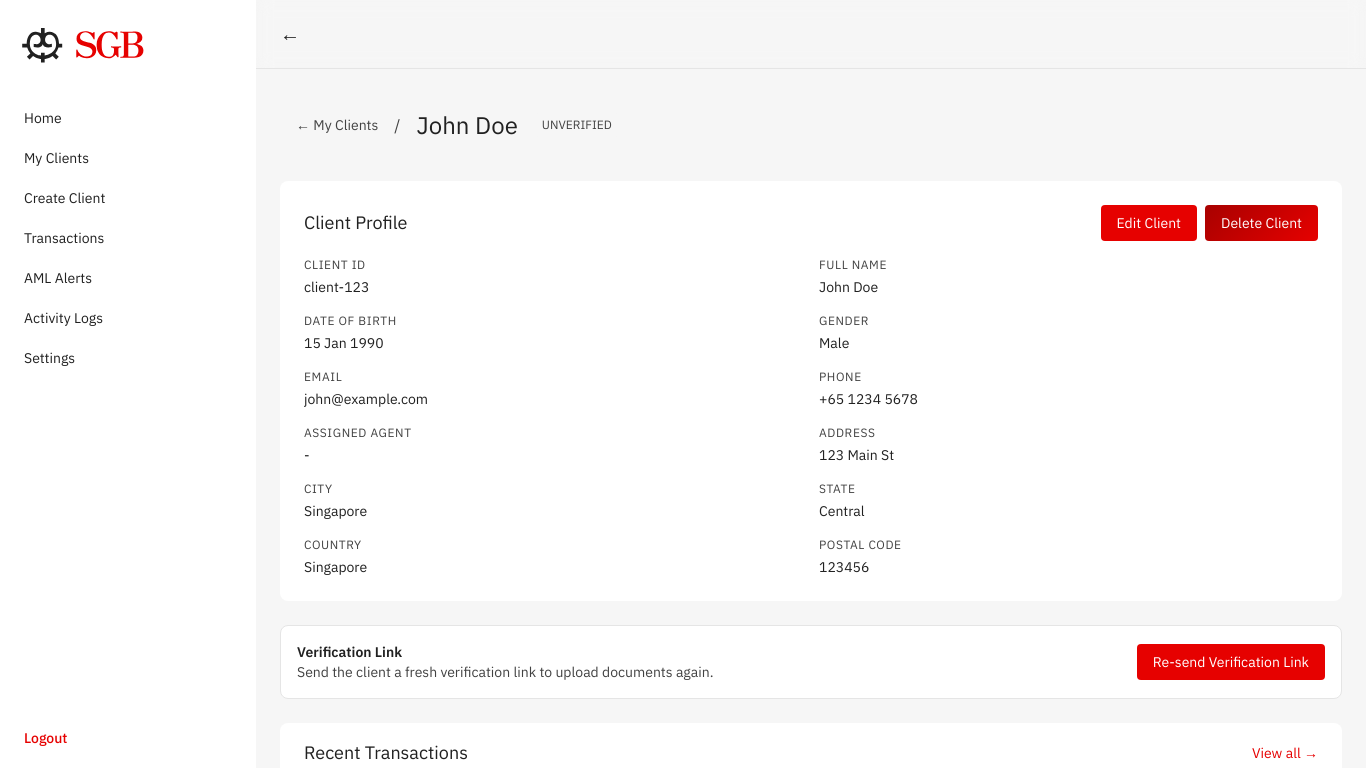
Test: ClientDetailPage › cancels delete modal without deleting
Click the button "Delete Client" at (1262, 223), box left=1205, top=205, right=1318, bottom=241
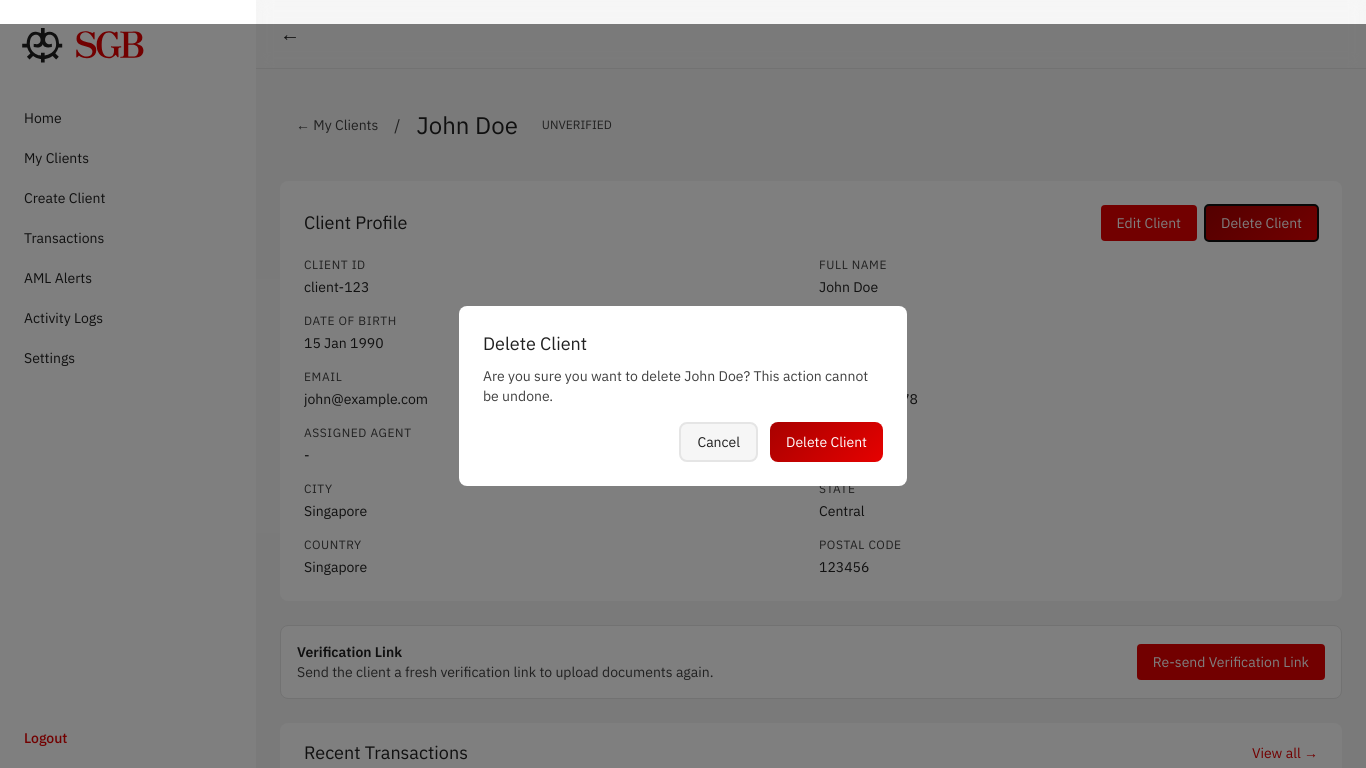
Expected: the element with test id "delete-client-modal" is shown
Click the button "Cancel" at (719, 442), box left=679, top=422, right=758, bottom=462
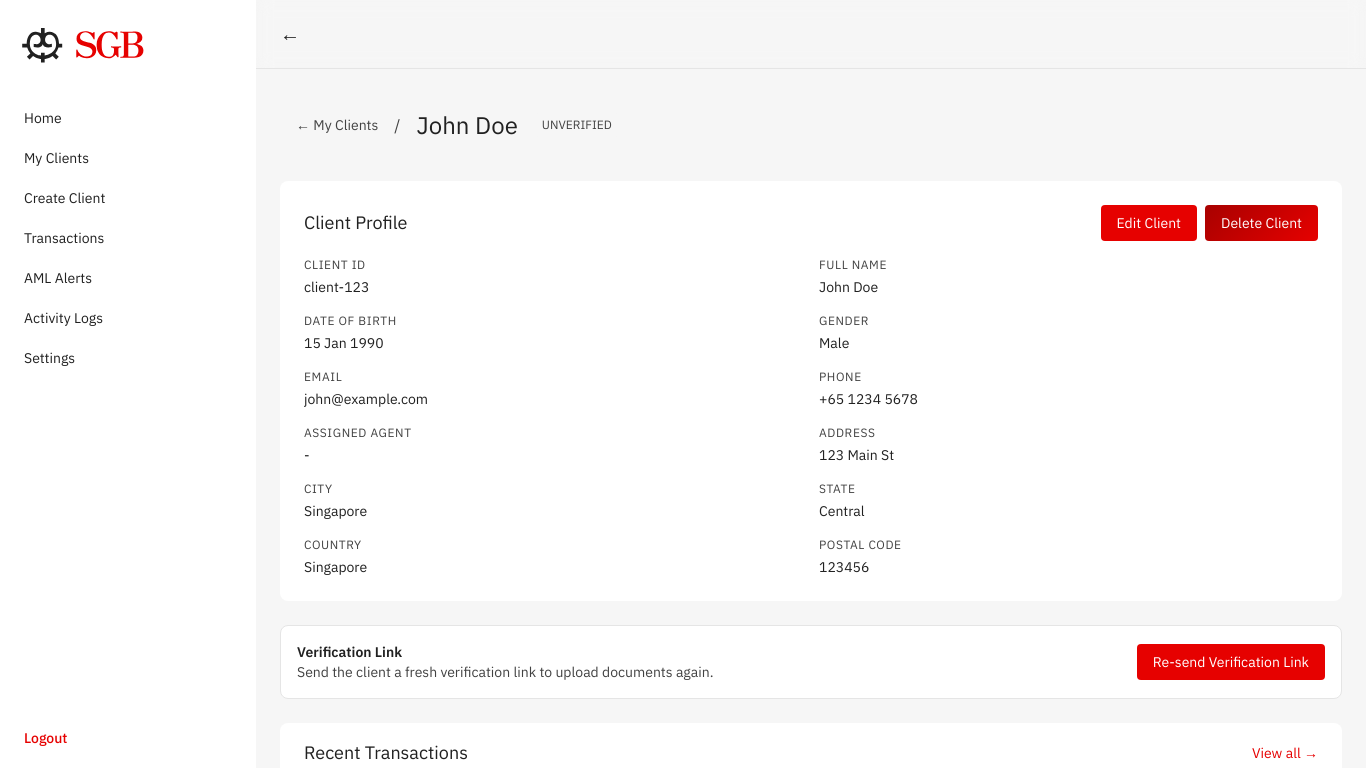
Expected: the element with test id "delete-client-modal" is gone
